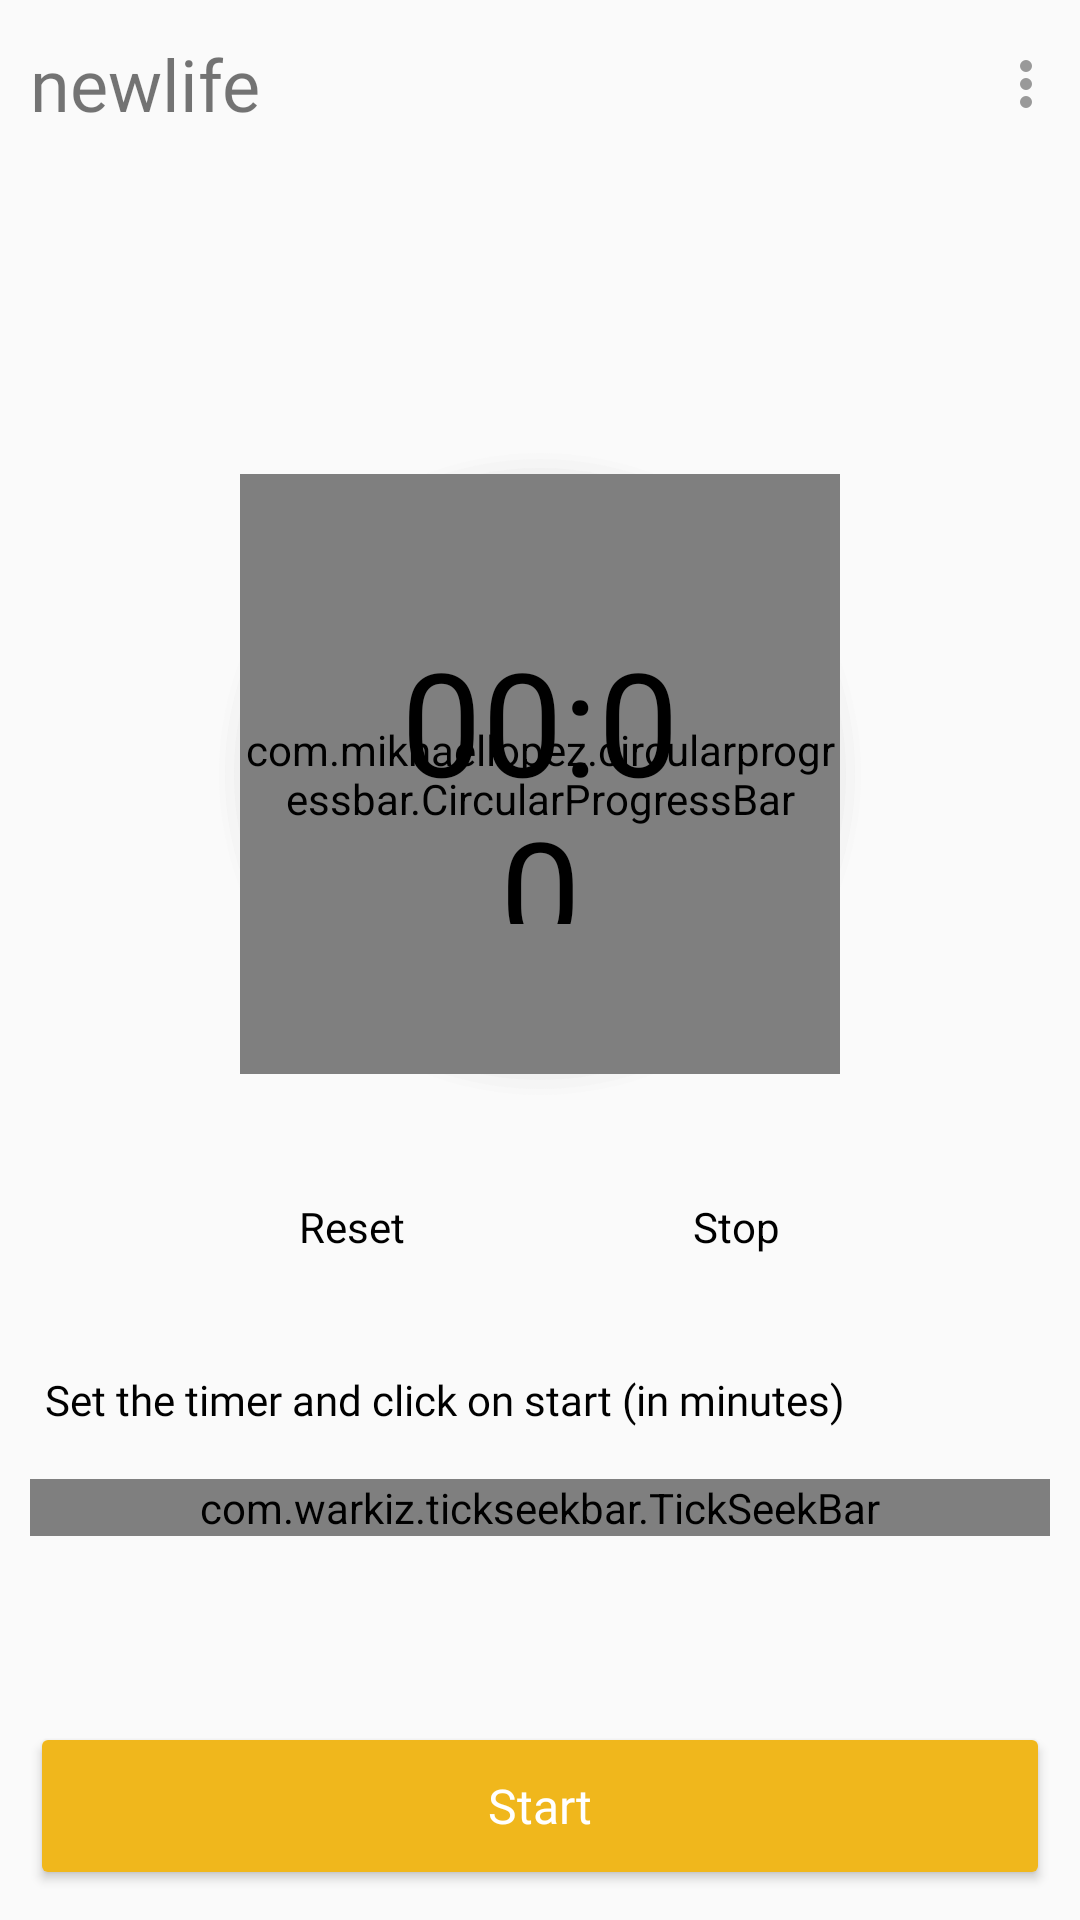

Where to tap for icons on this 1080w x 1920h app screen, as (x=x, y=y):
menu: (x=1026, y=84)
